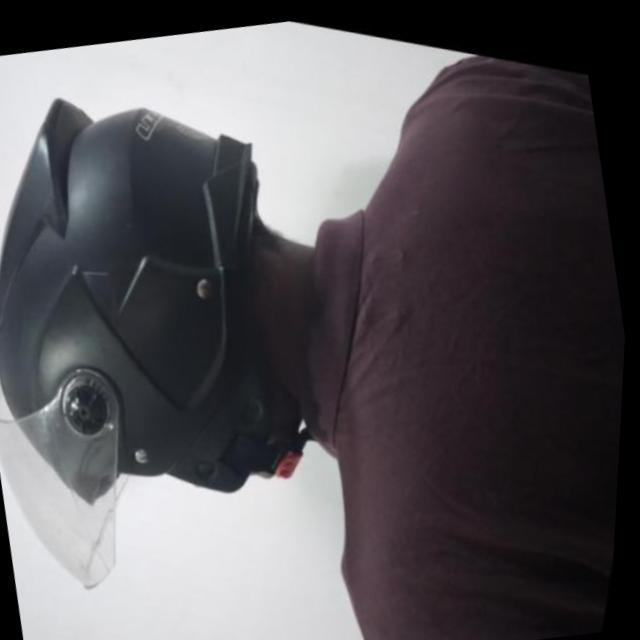with_helmet: (0, 99, 312, 487)
